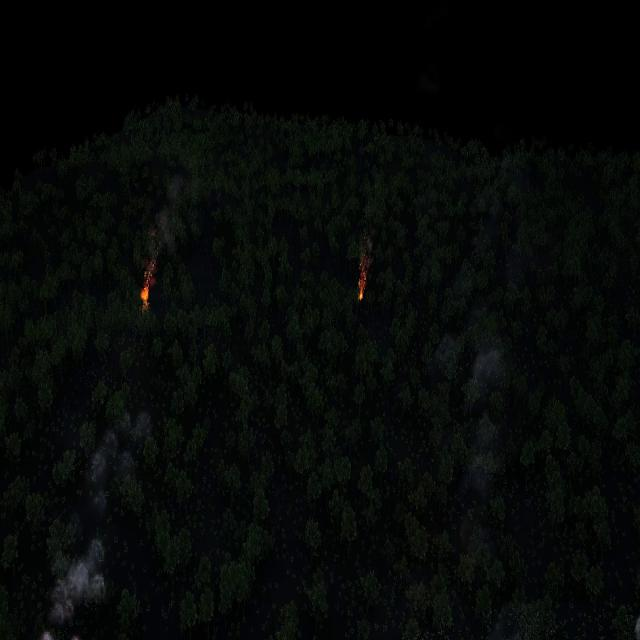fire: (142, 261, 156, 288), (358, 264, 366, 300), (140, 284, 149, 304)
smoke: (34, 534, 106, 638), (84, 409, 150, 516), (150, 174, 187, 258), (469, 339, 505, 395), (632, 607, 640, 640)
